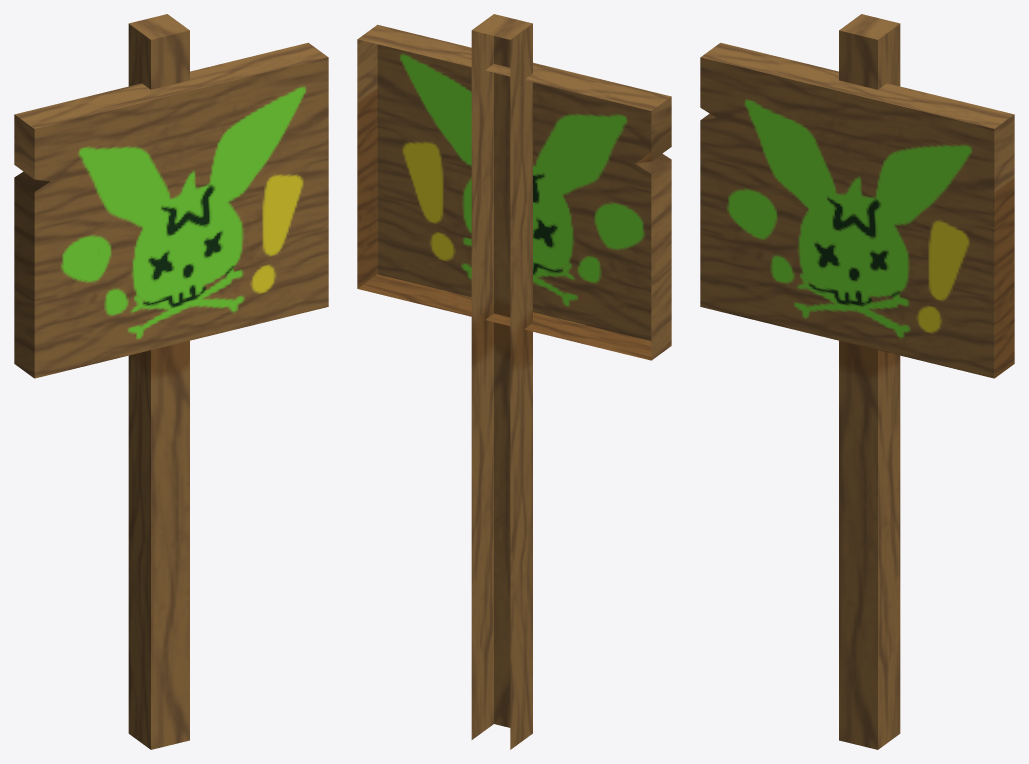
The model's file is PoisonSign.fbx.
The picture shows the model from 3 angles, left to right: view 1: azimuth 30°, elevation 25°; view 2: azimuth 150°, elevation 25°; view 3: azimuth 330°, elevation 25°; orthographic projection.
Parts seen in each view (by area): view 1: poisonsign; view 2: poisonsign; view 3: poisonsign.
Part boxes in pixels (box(x1,y1,x2,y2)): poisonsign: box(14, 14, 328, 749); poisonsign: box(357, 14, 671, 749); poisonsign: box(700, 14, 1014, 749).
Size of the model in its own units: 0.5771 by 1.33 by 0.1139.
1 material, 1 textured.
